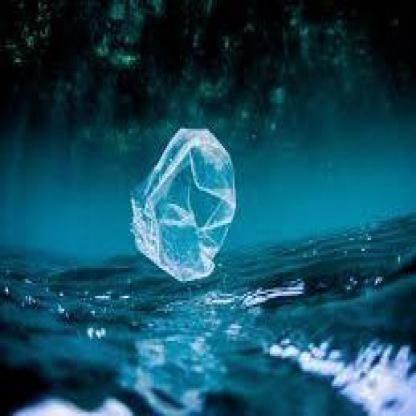pbag: (132, 126, 236, 281)
